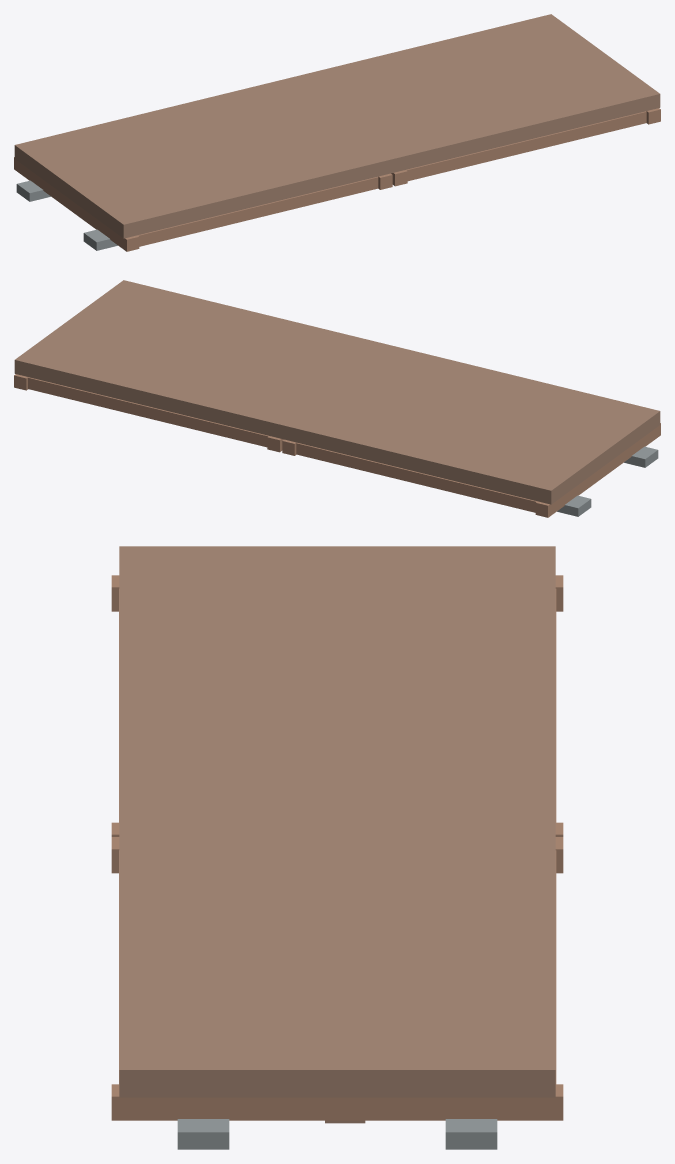
The model's file is 05_storm_shutters_closed.glb.
3 renders of one model, top to bottom at view 1: azimuth 30°, elevation 25°; view 2: azimuth 150°, elevation 25°; view 3: azimuth 270°, elevation 25°, orthographic. The views are drawn at different scales.
Visible parts, largest first — view 1: shutter_backing_0001, shutter_backing_0021, top_crossbar_0012, top_crossbar_0032, side_framing_0010, heavy_hinge_0017, heavy_hinge_0015; view 2: shutter_backing_0001, shutter_backing_0021, bottom_crossbar_0013, bottom_crossbar_0033, side_framing_0010, heavy_hinge_0015, heavy_hinge_0017; view 3: shutter_backing_0021, shutter_backing_0001, side_framing_0031, heavy_hinge_0035, heavy_hinge_0037.
Part boxes in pixels (x1,y1,x2,y2): shutter_backing_0001: (14, 79, 391, 238); shutter_backing_0021: (283, 14, 660, 172); top_crossbar_0012: (138, 176, 378, 246); top_crossbar_0032: (406, 111, 646, 181); side_framing_0010: (14, 157, 139, 251); heavy_hinge_0017: (83, 229, 117, 250); heavy_hinge_0015: (16, 180, 50, 201); shutter_backing_0001: (283, 345, 660, 504); shutter_backing_0021: (14, 280, 391, 438); bottom_crossbar_0013: (296, 442, 536, 512); bottom_crossbar_0033: (28, 377, 268, 447); side_framing_0010: (535, 423, 660, 517); heavy_hinge_0015: (557, 495, 591, 516); heavy_hinge_0017: (624, 446, 658, 467); shutter_backing_0021: (119, 808, 555, 1097); shutter_backing_0001: (119, 546, 555, 807); side_framing_0031: (111, 1084, 563, 1120); heavy_hinge_0035: (445, 1119, 497, 1149); heavy_hinge_0037: (177, 1119, 229, 1149).
Bounding box in the file's own units: 3.39 × 0.2385 × 1.18.
